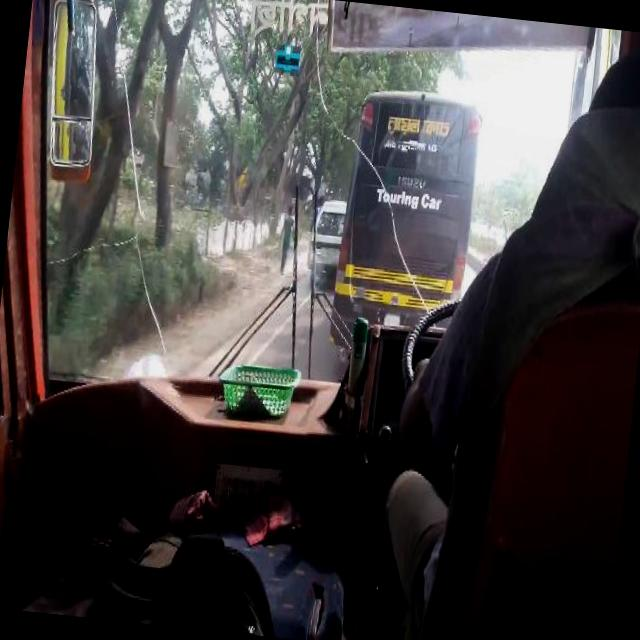bus: (332, 88, 479, 357)
truck: (306, 196, 346, 272)
